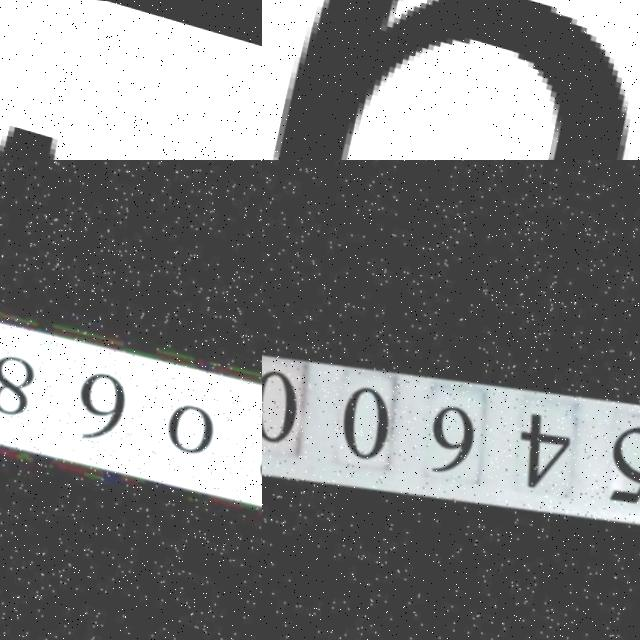0: (150, 364, 241, 482), (326, 363, 412, 478), (262, 352, 318, 459)
3: (238, 378, 262, 507)
4: (502, 386, 592, 505)
5: (595, 399, 640, 515)
6: (58, 342, 152, 463), (418, 383, 497, 491)
8: (0, 327, 58, 439)
9: (262, 0, 640, 160)
W: (0, 60, 262, 160)
